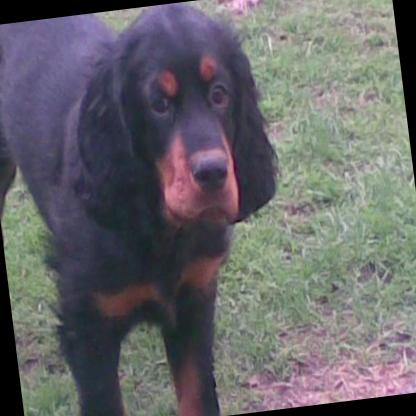Gordon_setter: (0, 0, 305, 416)
